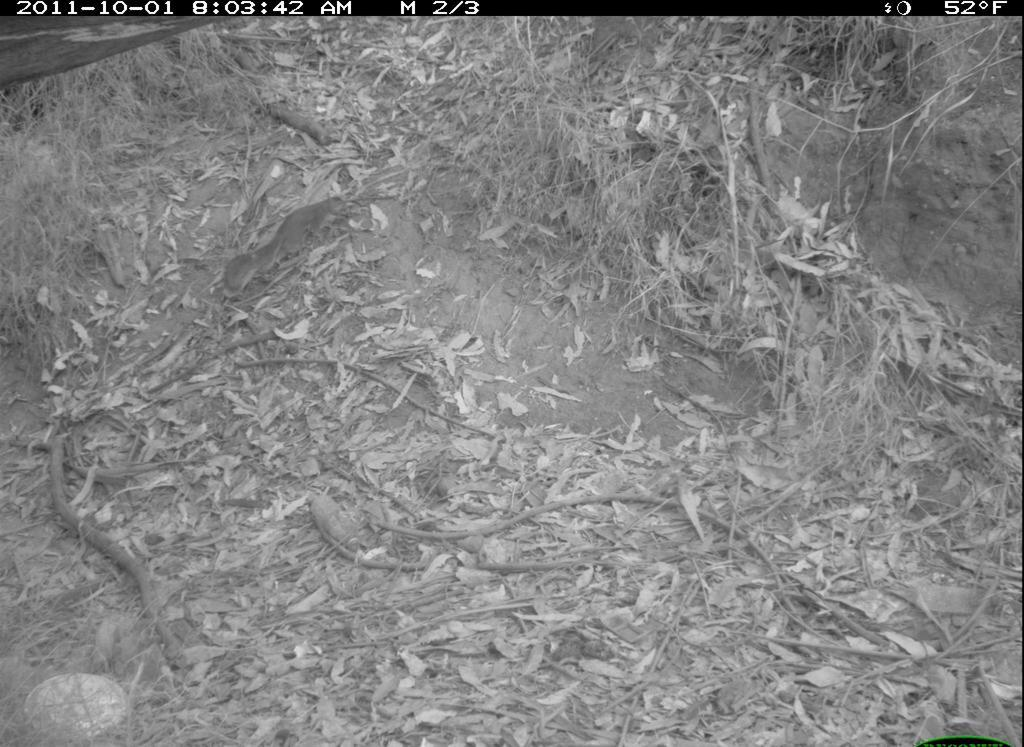squirrel: (219, 194, 364, 306)
